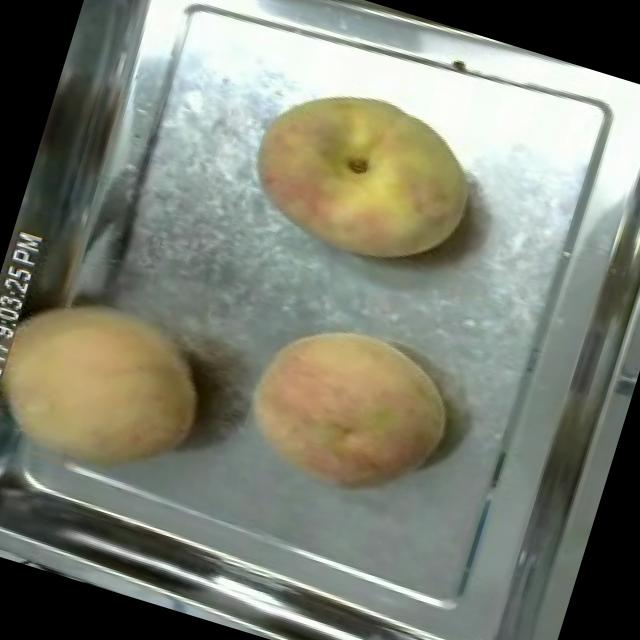Fruit: (229, 60, 496, 292), (0, 262, 231, 514), (225, 296, 470, 520)
